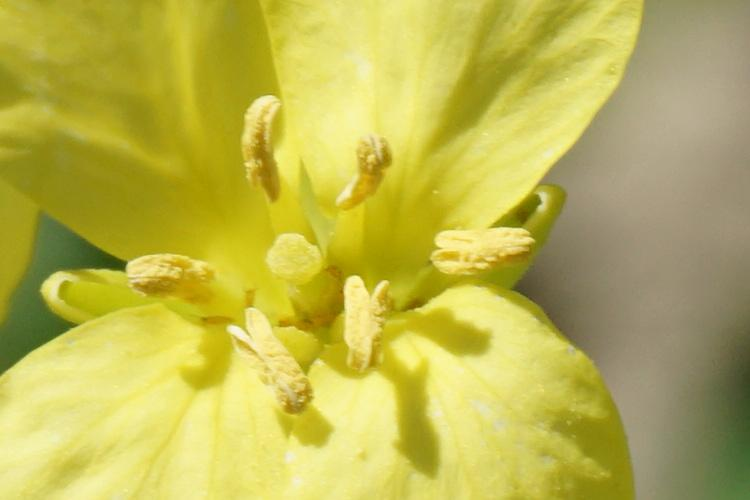yellow: (7, 5, 639, 485)
